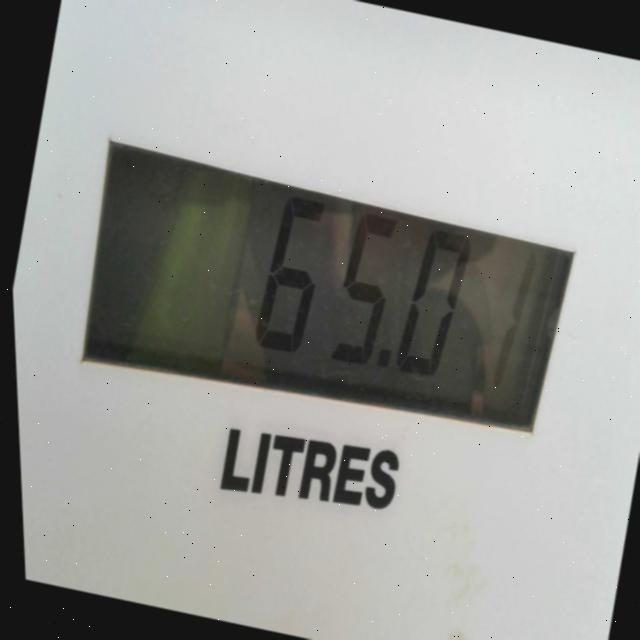.: (365, 336, 390, 386)
0: (379, 220, 489, 398)
1: (468, 238, 545, 398)
5: (307, 212, 402, 392)
6: (231, 178, 345, 372)
